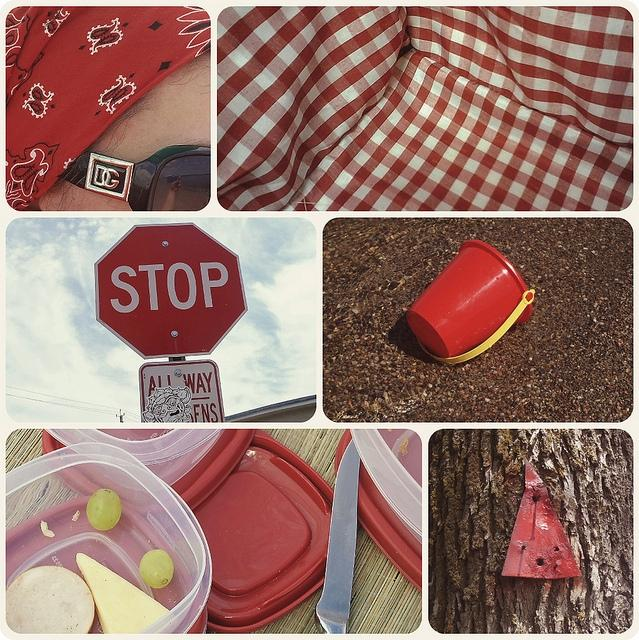grape: (86, 488, 122, 531), (139, 549, 174, 588)
